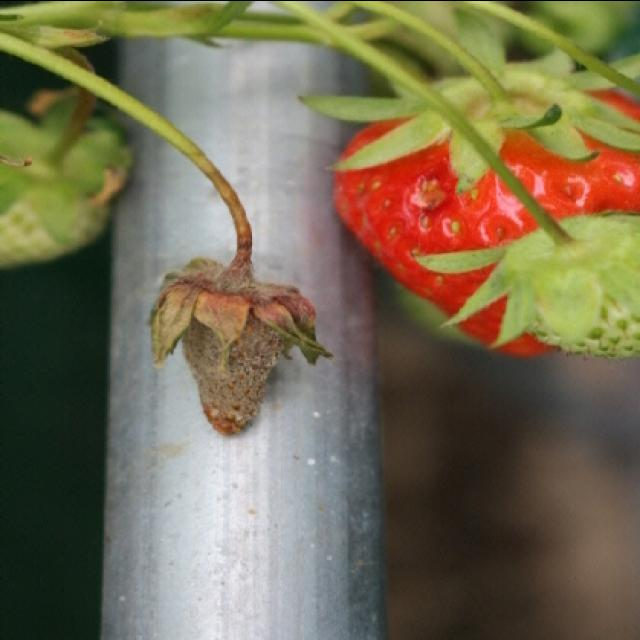Gray Mold: (147, 233, 335, 437)
